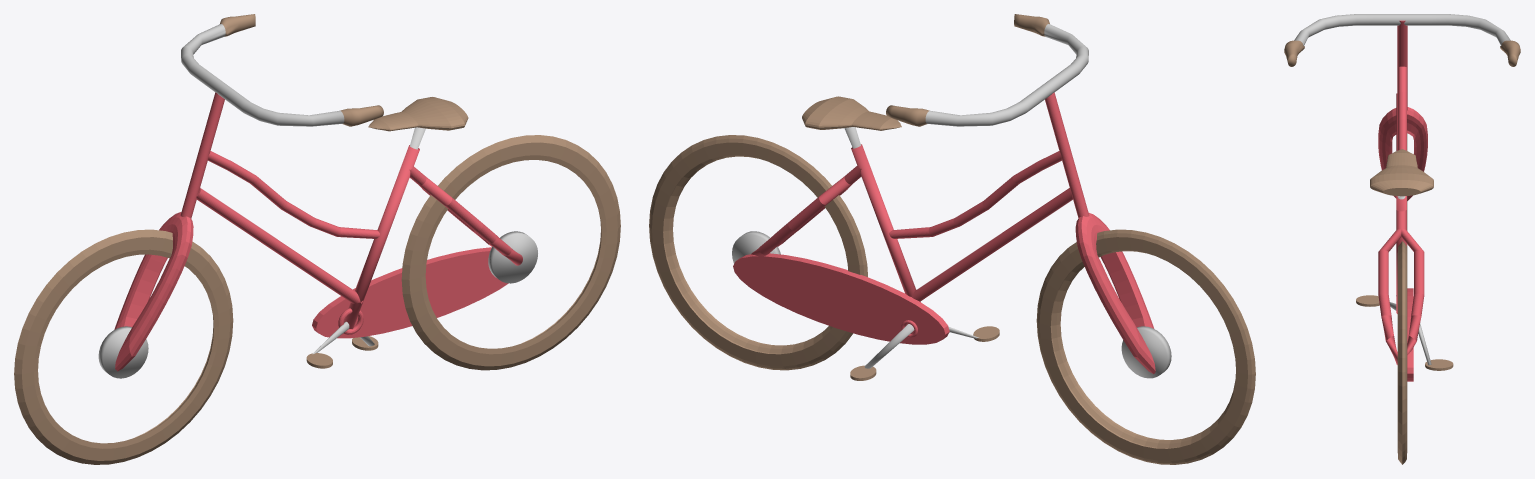
The model's file is fietsroze.fbx.
The picture shows the model from 3 angles, left to right: view 1: azimuth 30°, elevation 25°; view 2: azimuth 150°, elevation 25°; view 3: azimuth 270°, elevation 25°; orthographic projection. The views are drawn at different scales.
Visible parts, largest first — view 1: Torus.001, Torus.002, Cylinder.005, Torus.004, Cylinder.004, Cylinder, Cylinder.003, Cone, Cylinder.001, Cylinder.006, Cylinder.007, Cylinder.002 (+1 smaller); view 2: Torus.002, Torus.001, Cylinder.005, Torus.004, Cylinder.004, Cylinder.003, Cone, Cylinder, Cylinder.001, Cylinder.006, Cylinder.002, Cylinder.009 (+1 smaller); view 3: Cylinder.004, Cylinder.006, Torus.001, Cone, Torus.004, Cylinder.001, Cylinder.002, Cylinder.005, Cylinder, Cylinder.011, Cylinder.010.
Part boxes in pixels (left/top/right/bottom): Torus.001: left=401, top=135, right=620, bottom=370; Torus.002: left=14, top=229, right=233, bottom=464; Cylinder.005: left=312, top=247, right=508, bottom=338; Torus.004: left=114, top=212, right=193, bottom=371; Cylinder.004: left=181, top=14, right=383, bottom=126; Cylinder: left=344, top=127, right=425, bottom=329; Cylinder.003: left=196, top=188, right=362, bottom=303; Cone: left=368, top=97, right=468, bottom=131; Cylinder.001: left=208, top=151, right=379, bottom=238; Cylinder.006: left=409, top=166, right=522, bottom=265; Cylinder.007: left=488, top=231, right=537, bottom=283; Cylinder.002: left=180, top=92, right=224, bottom=218; Torus.002: left=1036, top=229, right=1255, bottom=464; Torus.001: left=649, top=135, right=867, bottom=370; Cylinder.005: left=733, top=253, right=949, bottom=344; Torus.004: left=1075, top=213, right=1155, bottom=373; Cylinder.004: left=886, top=14, right=1088, bottom=126; Cylinder.003: left=912, top=188, right=1072, bottom=301; Cone: left=802, top=96, right=901, bottom=130; Cylinder: left=844, top=127, right=920, bottom=301; Cylinder.001: left=889, top=151, right=1061, bottom=238; Cylinder.006: left=751, top=166, right=861, bottom=256; Cylinder.002: left=1045, top=92, right=1089, bottom=218; Cylinder.009: left=1121, top=326, right=1171, bottom=378; Cylinder.004: left=1284, top=14, right=1520, bottom=66; Cylinder.006: left=1378, top=210, right=1424, bottom=364; Torus.001: left=1397, top=241, right=1407, bottom=464; Cone: left=1370, top=149, right=1433, bottom=196; Torus.004: left=1378, top=107, right=1427, bottom=200; Cylinder.001: left=1398, top=66, right=1406, bottom=246; Cylinder.002: left=1397, top=20, right=1407, bottom=110; Cylinder.005: left=1407, top=288, right=1413, bottom=381; Cylinder: left=1396, top=196, right=1406, bottom=313; Cylinder.011: left=1425, top=359, right=1453, bottom=370; Cylinder.010: left=1356, top=295, right=1379, bottom=306.
Size of the model in its own units: 285 by 160 by 109.
